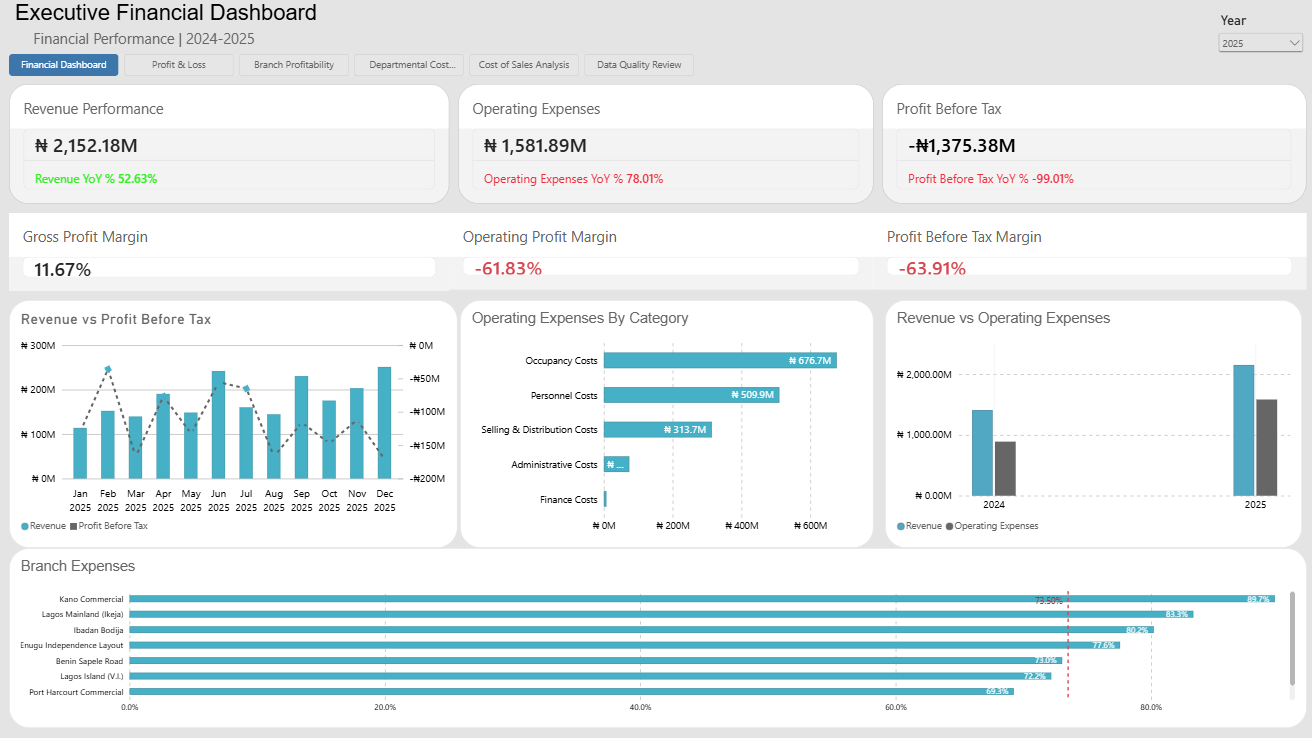

The page's visual inventory and layout, read from the dashboard file:
{"tool":"powerbi","page":{"name":"Financial Dashboard","canvas":[1920,1080],"ordinal":0},"visuals":[{"type":"textbox","box":[13.1,0,458.5,40.9],"z":0},{"type":"textbox","box":[24.8,40.9,370.9,43.8],"z":1000},{"type":"cardVisual","title":"Operating Expenses","fields":{"Data":["FinancialTransactions.Operating Expenses"]},"box":[668.2,122.1,607.1,175.3],"z":2000},{"type":"slicer","fields":{"Values":["DateTable.Year"]},"box":[1774,19,134.3,92],"z":4000},{"type":"lineClusteredColumnComboChart","title":"Revenue vs Profit Before Tax","fields":{"Category":["DateTable.Month Year"],"Y":["FinancialTransactions.Revenue"],"Y2":["FinancialTransactions.Profit Before Tax"]},"box":[12.5,438.1,654.9,361.7],"z":6000},{"type":"clusteredBarChart","title":"Operating Expenses By Category","fields":{"Category":["ChartofAccounts.PLGroup"],"Y":["FinancialTransactions.Operating Expenses"]},"box":[671.3,438.1,603.9,361.7],"z":7000},{"type":"cardVisual","title":"Gross Profit Margin","fields":{"Data":["FinancialTransactions.Gross Profit Margin %"]},"box":[12.5,311.4,643.1,114.2],"z":8000},{"type":"cardVisual","title":"Revenue Performance","fields":{"Data":["FinancialTransactions.Revenue"]},"box":[12.5,122.1,643.1,175.3],"z":9000},{"type":"cardVisual","title":"Profit Before Tax","fields":{"Data":["FinancialTransactions.Profit Before Tax"]},"box":[1287.8,122.1,619.7,175.3],"z":9001},{"type":"cardVisual","title":"Operating Profit Margin","fields":{"Data":["FinancialTransactions.Operating Profit Margin %"]},"box":[655.6,311.4,619.8,111.5],"z":9002},{"type":"cardVisual","title":"Profit Before Tax Margin","fields":{"Data":["FinancialTransactions.Profit Before Tax Margin %"]},"box":[1275.3,311.4,632.6,111.5],"z":9003},{"type":"clusteredBarChart","title":"Branch Expenses","fields":{"Category":["Branches.BranchName"],"Y":["FinancialTransactions.Operating Expenses to Revenue %"]},"box":[12.5,799.6,1895,262.9],"z":9004},{"type":"clusteredColumnChart","title":"Revenue vs Operating Expenses","fields":{"Category":["DateTable.Year"],"Y":["FinancialTransactions.Revenue","FinancialTransactions.Operating Expenses"]},"box":[1292.5,438.1,608.7,361.7],"z":9005},{"type":"pageNavigator","box":[13.1,78.8,1000.2,32.1],"z":9006}]}

Visuals, with their boxes in screenshot pixels (x1, y1, x2, y2), scaled from the page's 1920x1080 canvas onto the 1312x738 screenshot:
textbox: crop(9, 0, 322, 28)
textbox: crop(17, 28, 270, 58)
"Operating Expenses" cardVisual: crop(457, 83, 871, 203)
slicer - DateTable.Year: crop(1212, 13, 1304, 76)
"Revenue vs Profit Before Tax" lineClusteredColumnComboChart: crop(9, 299, 456, 547)
"Operating Expenses By Category" clusteredBarChart: crop(459, 299, 871, 547)
"Gross Profit Margin" cardVisual: crop(9, 213, 448, 291)
"Revenue Performance" cardVisual: crop(9, 83, 448, 203)
"Profit Before Tax" cardVisual: crop(880, 83, 1303, 203)
"Operating Profit Margin" cardVisual: crop(448, 213, 872, 289)
"Profit Before Tax Margin" cardVisual: crop(871, 213, 1304, 289)
"Branch Expenses" clusteredBarChart: crop(9, 546, 1303, 726)
"Revenue vs Operating Expenses" clusteredColumnChart: crop(883, 299, 1299, 547)
pageNavigator: crop(9, 54, 692, 76)
